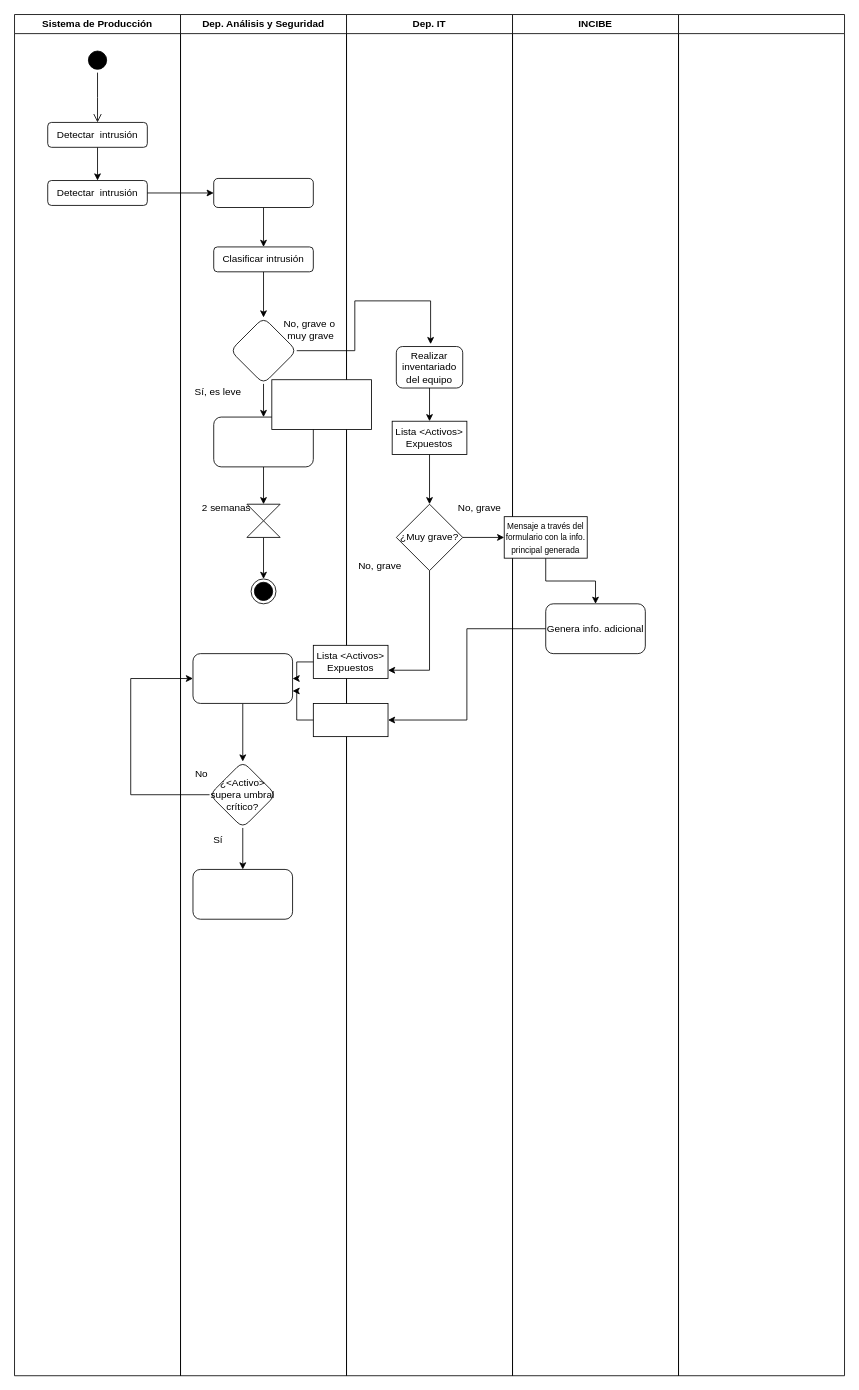
The diagram is 859 pixels wide and 1390 high, and some of its shapes have lost their labels. Here are the shapes that lost their labels. From the top down, the centre of each, then its label:
(263,193): Realizar análisis de la intrusión
(263,350): ¿Leve?
(263,441): Actualizar BBDD
(242,678): Análisis para <Activo> <i> de la Lista
(761,695): Directiva de Seguridad
(350,720): Información generada INCIBE
(242,894): Activar plan de emergencias
